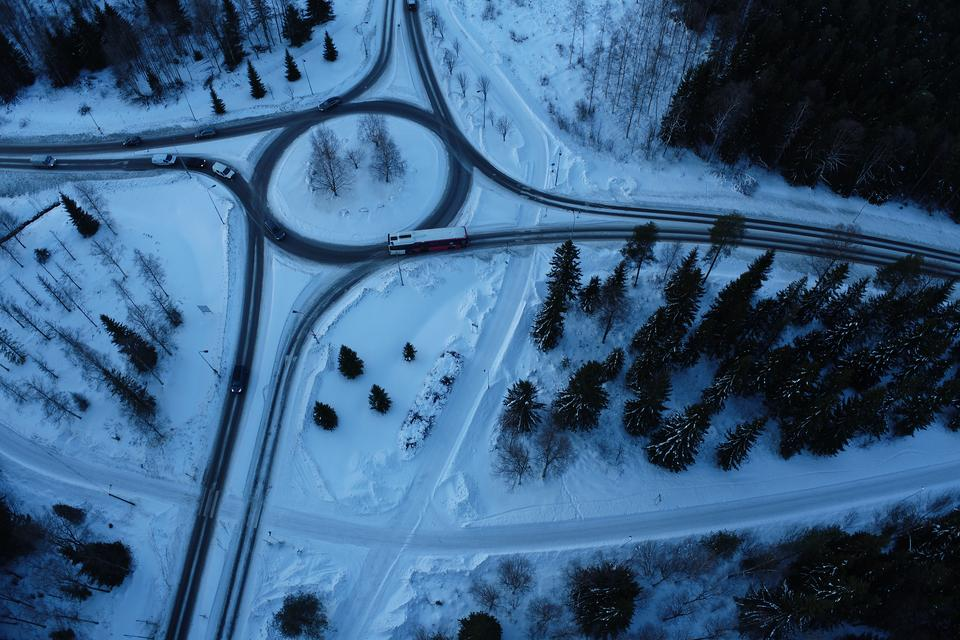intersection: (179, 472, 292, 544), (498, 161, 562, 266)
roundabout: (218, 75, 492, 292)
